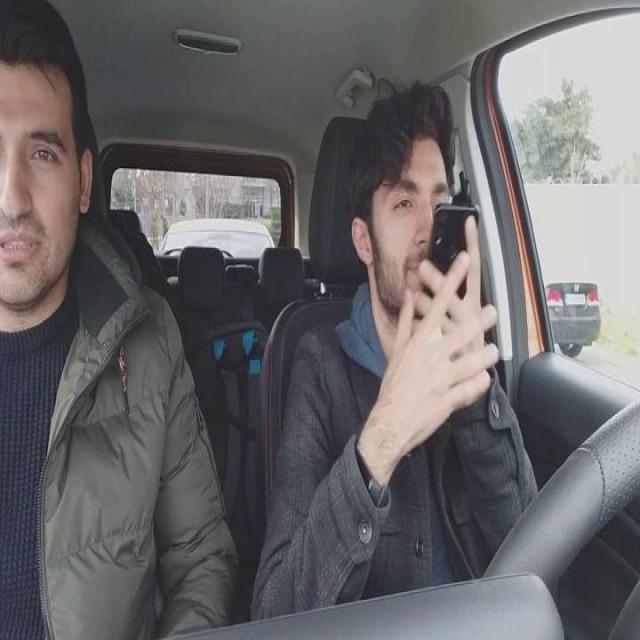phone: (428, 202, 478, 306)
